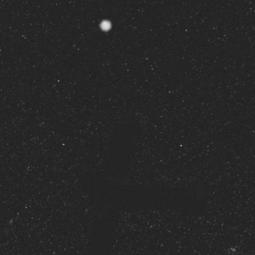xmm_newton: (91, 111, 205, 255)
